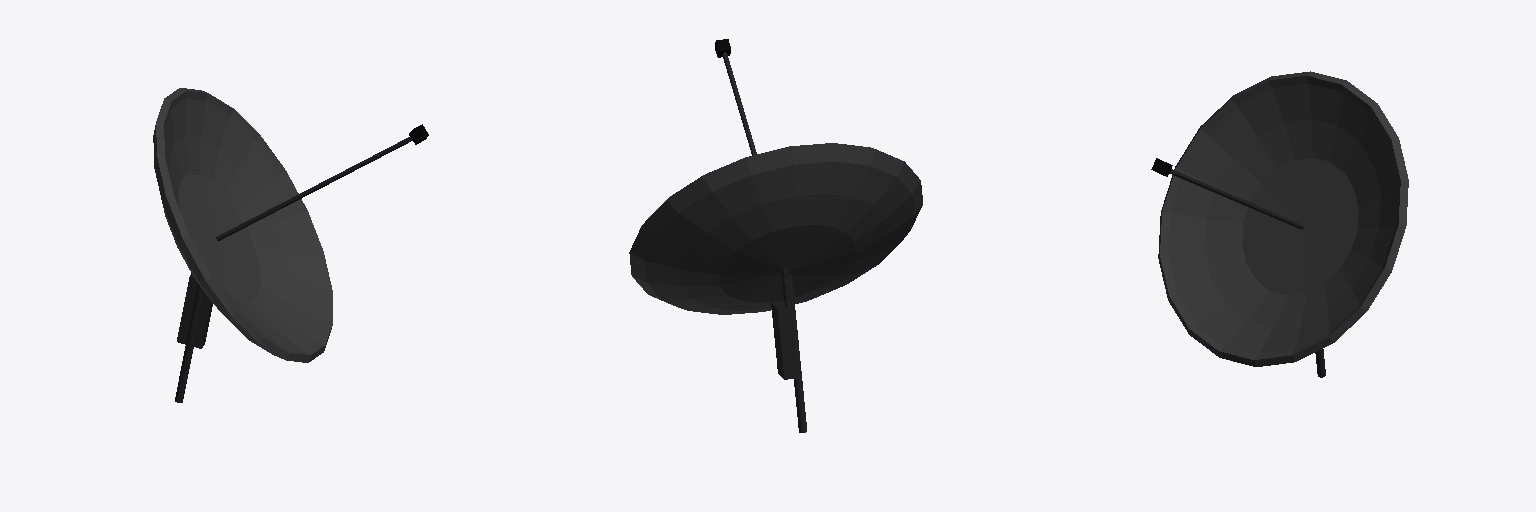
The model's file is Antenna_2_Cylinder_001.obj.
3 renders of one model, left to right at view 1: azimuth 30°, elevation 25°; view 2: azimuth 150°, elevation 25°; view 3: azimuth 270°, elevation 25°, orthographic.
Visible parts, largest first — view 1: Antenna_2_Cylinder.001; view 2: Antenna_2_Cylinder.001; view 3: Antenna_2_Cylinder.001.
Part boxes in pixels (left/top/right/bottom): Antenna_2_Cylinder.001: left=153, top=88, right=428, bottom=402; Antenna_2_Cylinder.001: left=629, top=39, right=922, bottom=432; Antenna_2_Cylinder.001: left=1151, top=71, right=1408, bottom=377.
Bounding box in the file's own units: 0.5877 × 0.7306 × 0.5787.